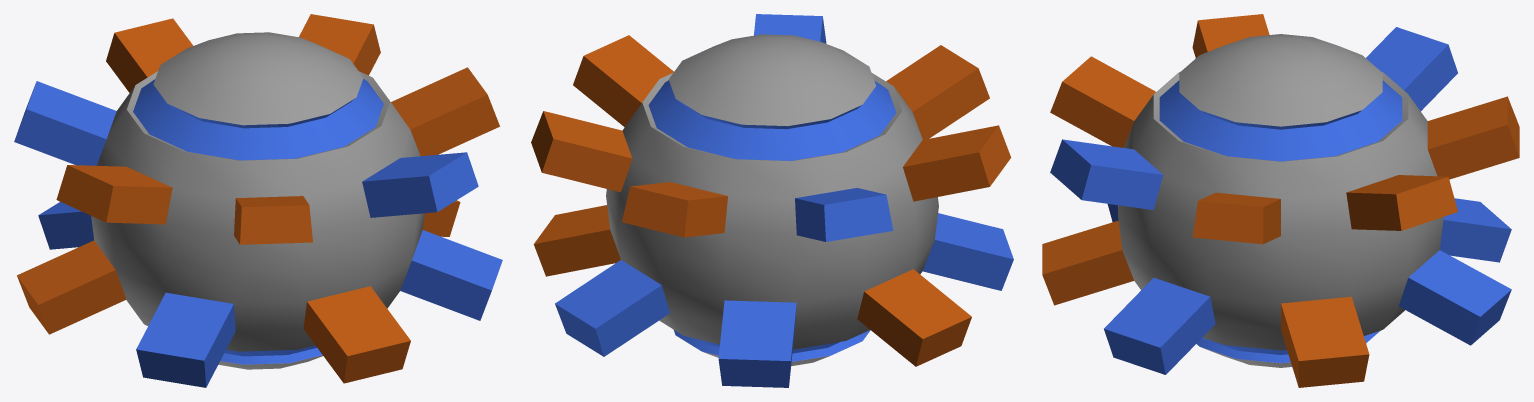
Rendered from sphrThingy_01.obj.
3 renders of one model, left to right at view 1: azimuth 30°, elevation 25°; view 2: azimuth 150°, elevation 25°; view 3: azimuth 270°, elevation 25°, orthographic.
Parts seen in each view (by area): view 1: sphrThingy; view 2: sphrThingy; view 3: sphrThingy.
Part boxes in pixels (<box>): sphrThingy: <box>14,14,502,387</box>; sphrThingy: <box>531,14,1013,387</box>; sphrThingy: <box>1042,14,1519,387</box>.
Size of the model in its own units: 5.77 by 4 by 5.72.
